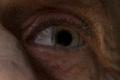eye: (52, 28, 78, 48)
